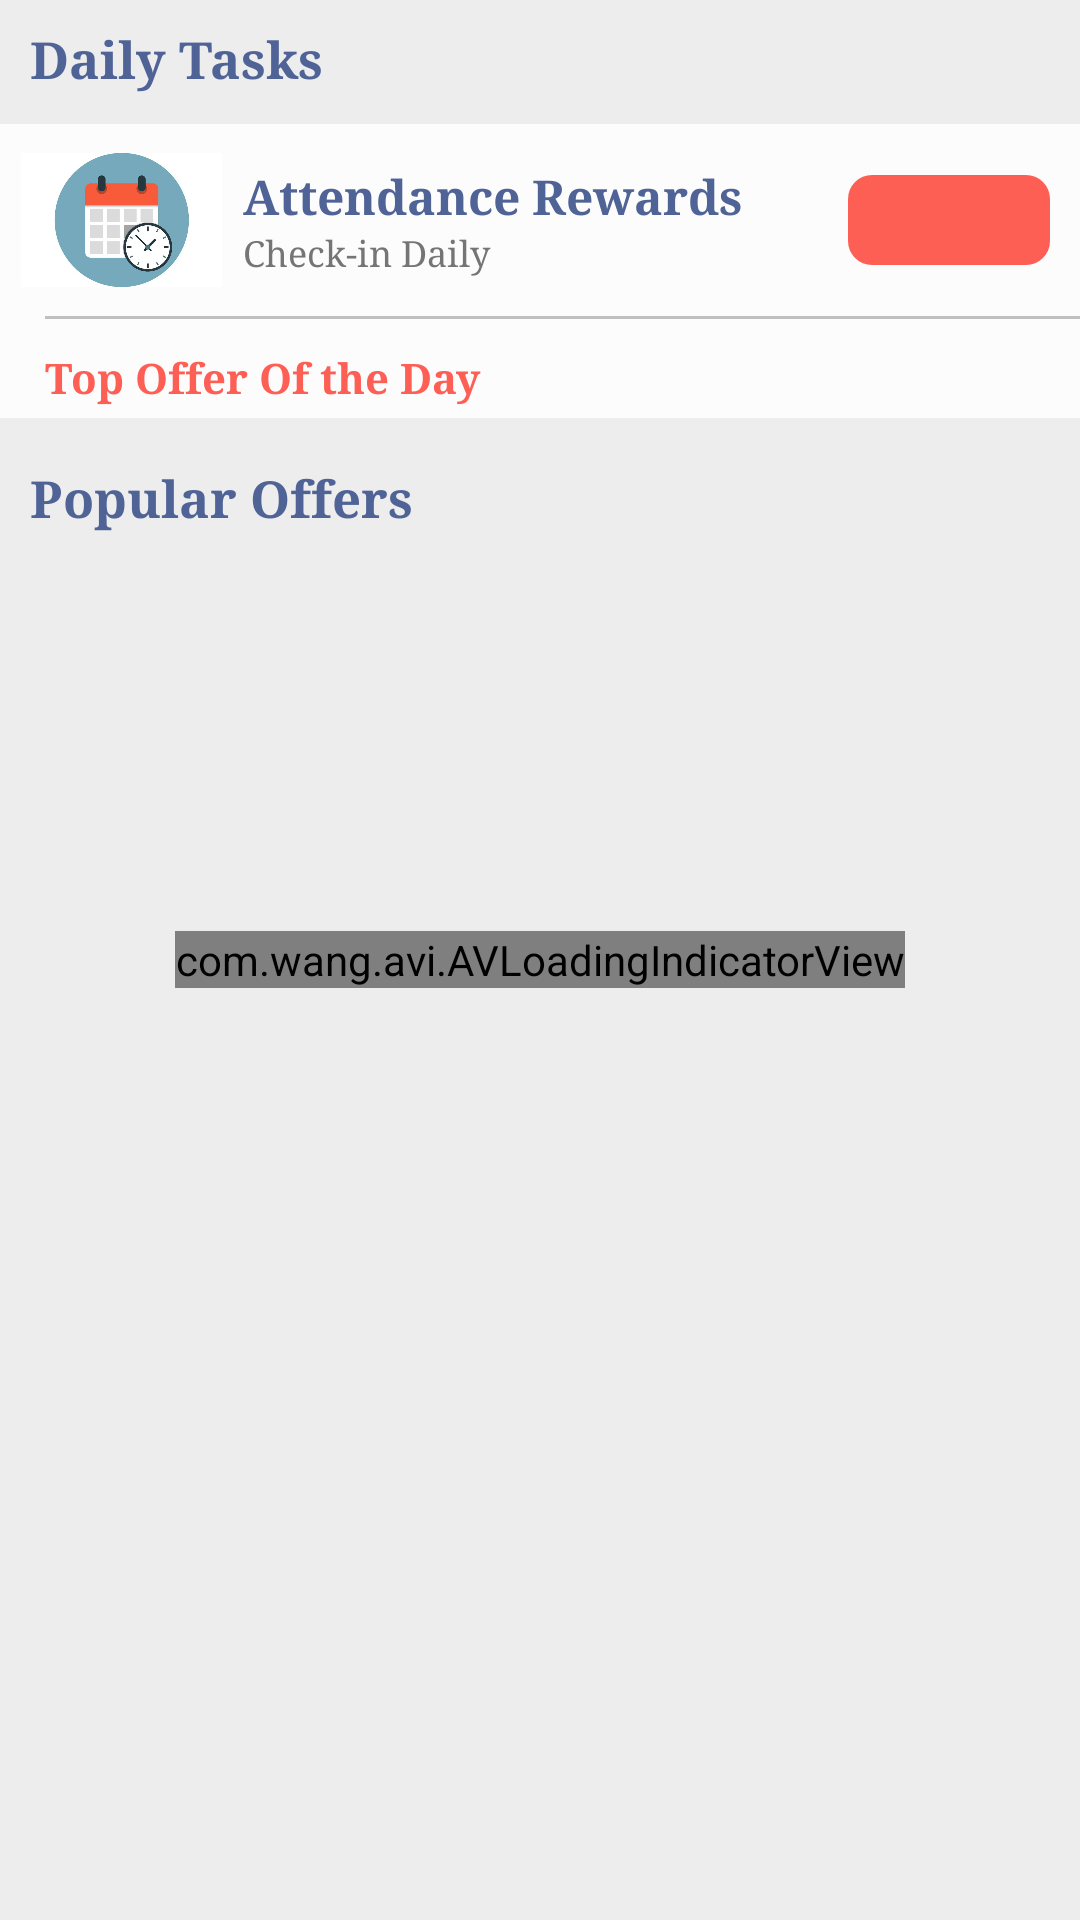

Where to tap for icons on this 1080px×1920px app screen, as (x,y):
calendar: (122,220)
